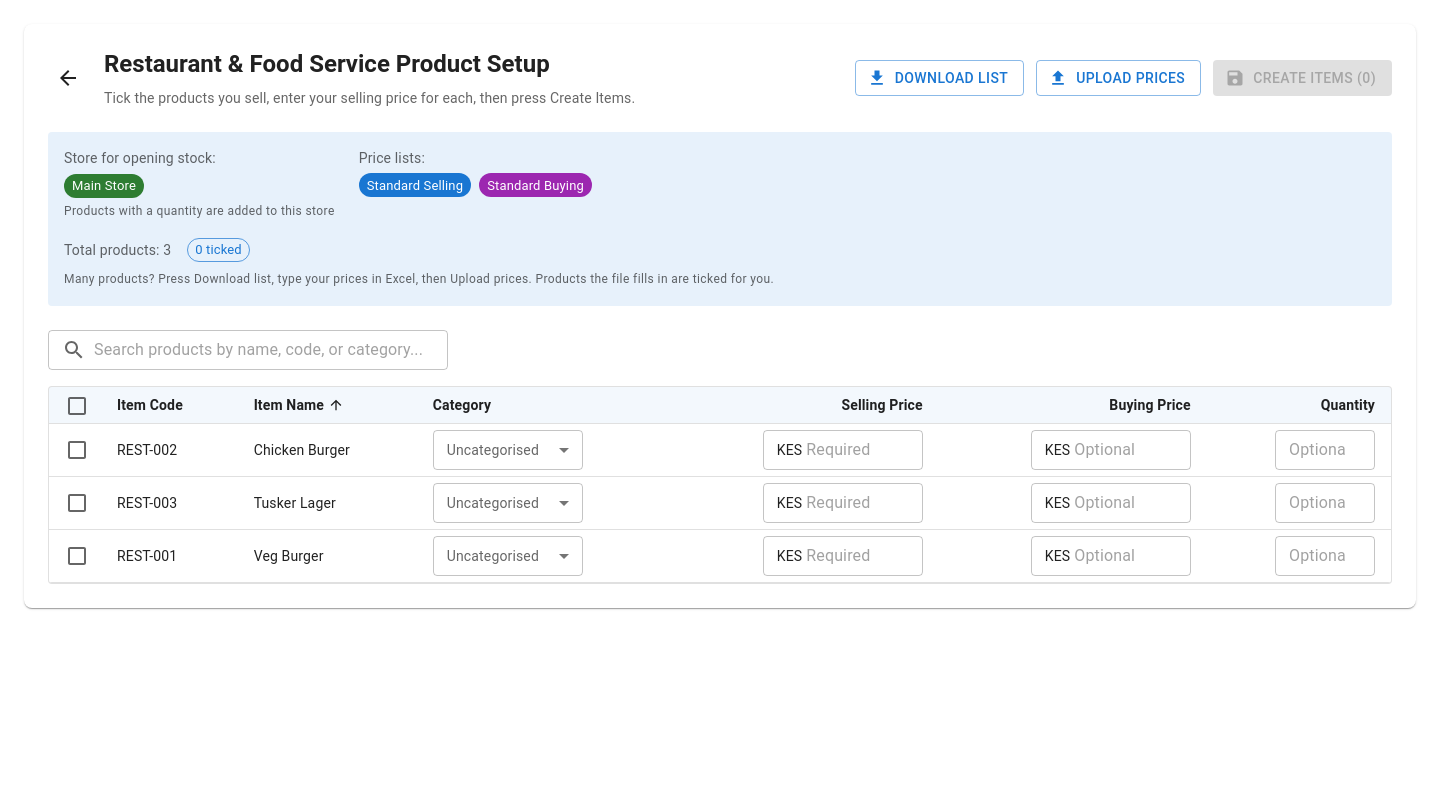
Test: Starter products page › will not save a price of 0 either
Expected: the text "Veg Burger" is shown, [238,529,417,582]
Click the checkbox named "Tick Veg Burger" at (77, 556), box [65,544,89,568]
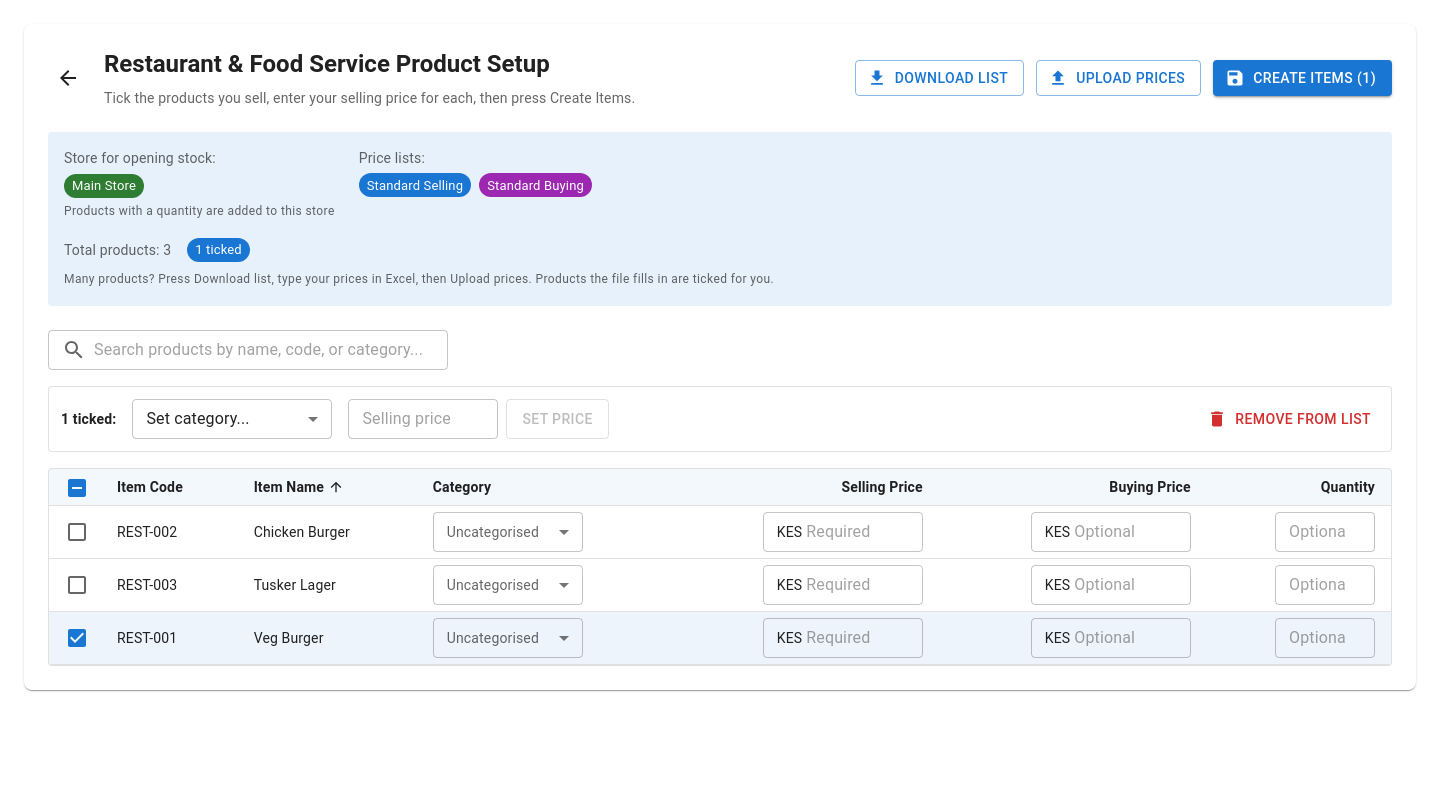
Type "0" into the number field named "Selling price for Veg Burger" at (865, 638), box [806,618,923,658]
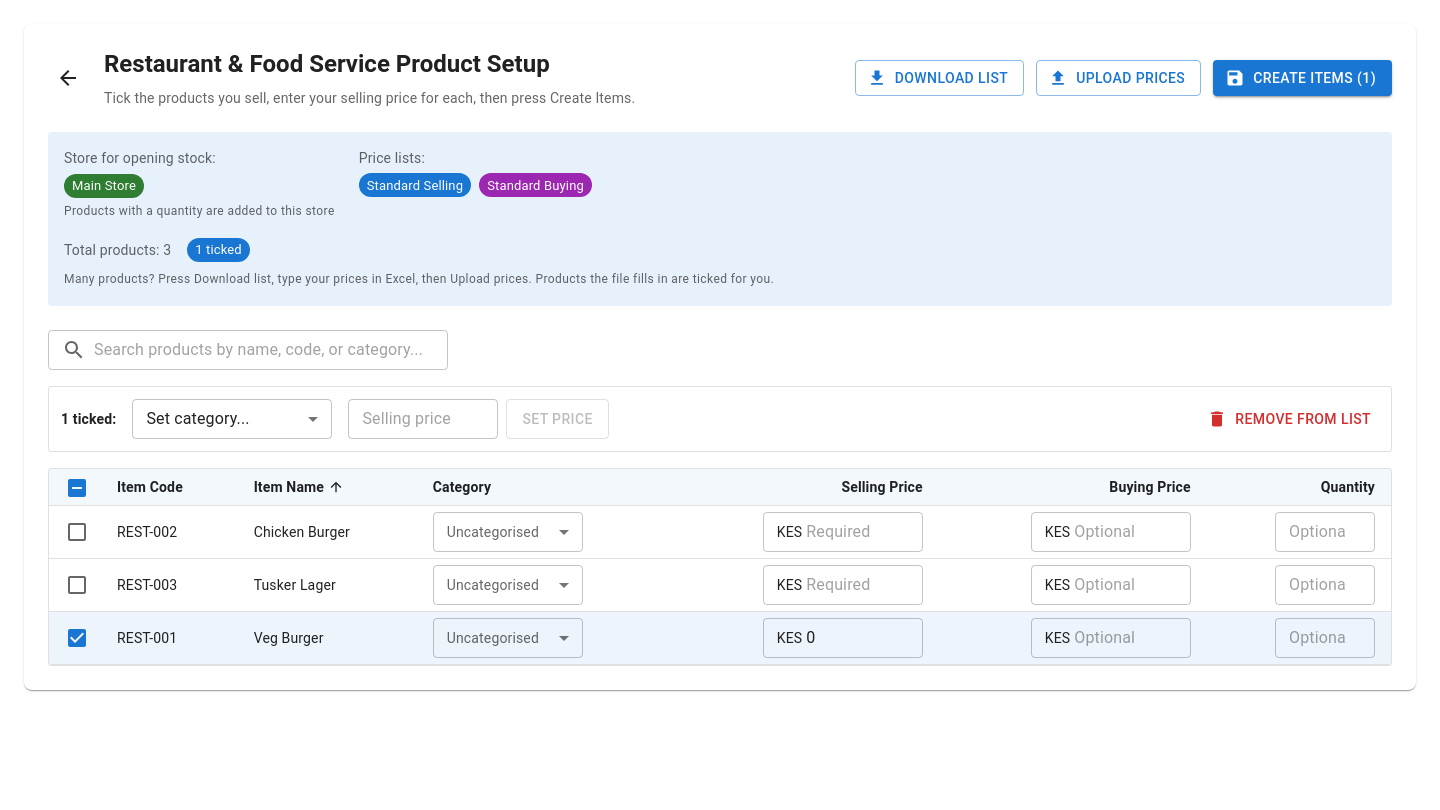
Click the button "Create Items (1)" at (1303, 78), box [1213,60,1392,96]
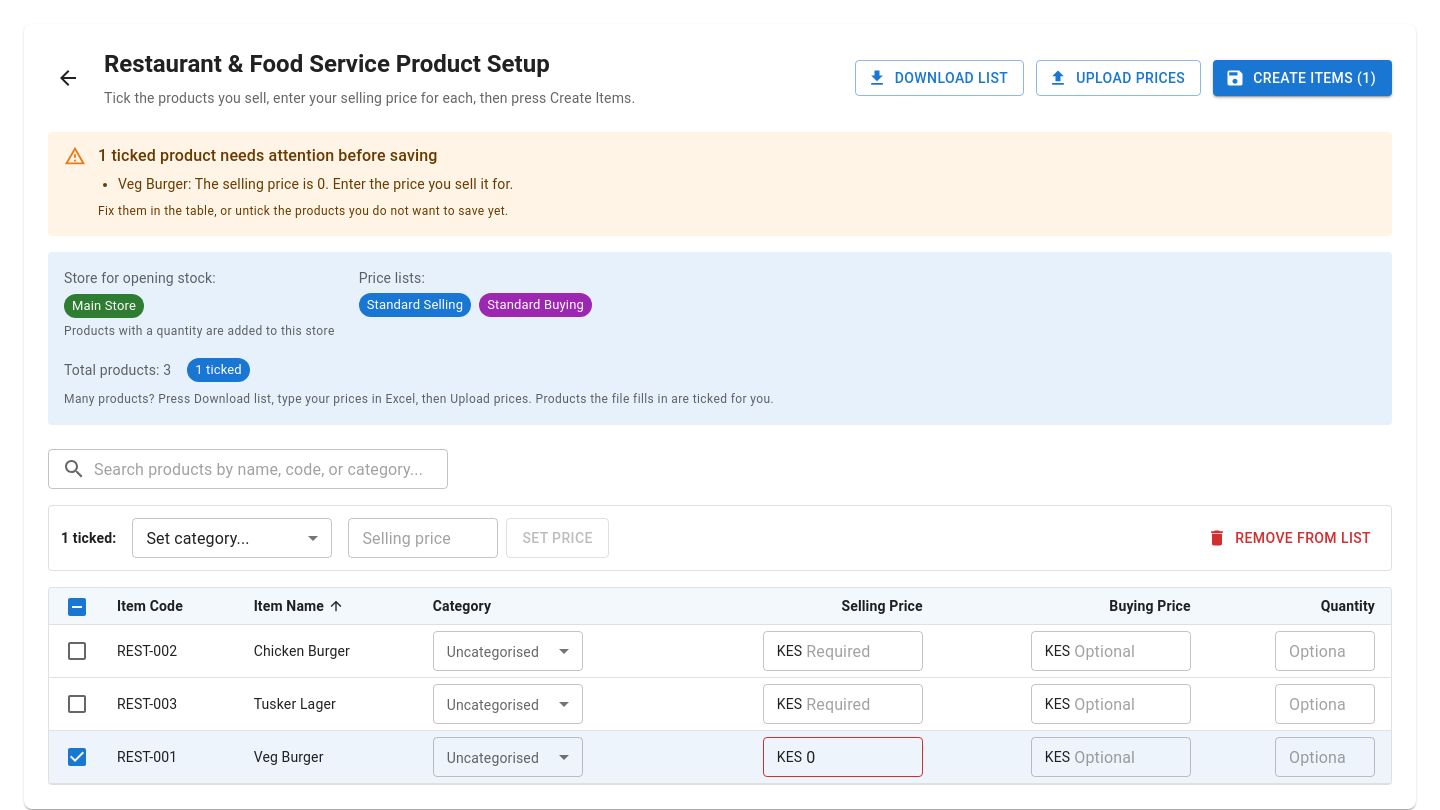
Expected: the list item "The selling price is 0" is shown, [195,176,513,192]
